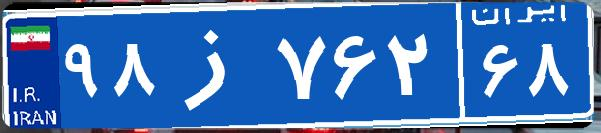2: (385, 28, 445, 110)
6: (330, 28, 385, 110), (475, 38, 525, 113)
7: (273, 28, 330, 110)
8: (110, 28, 158, 105), (525, 38, 570, 115)
9: (57, 26, 110, 107)
ز: (158, 15, 273, 115)
